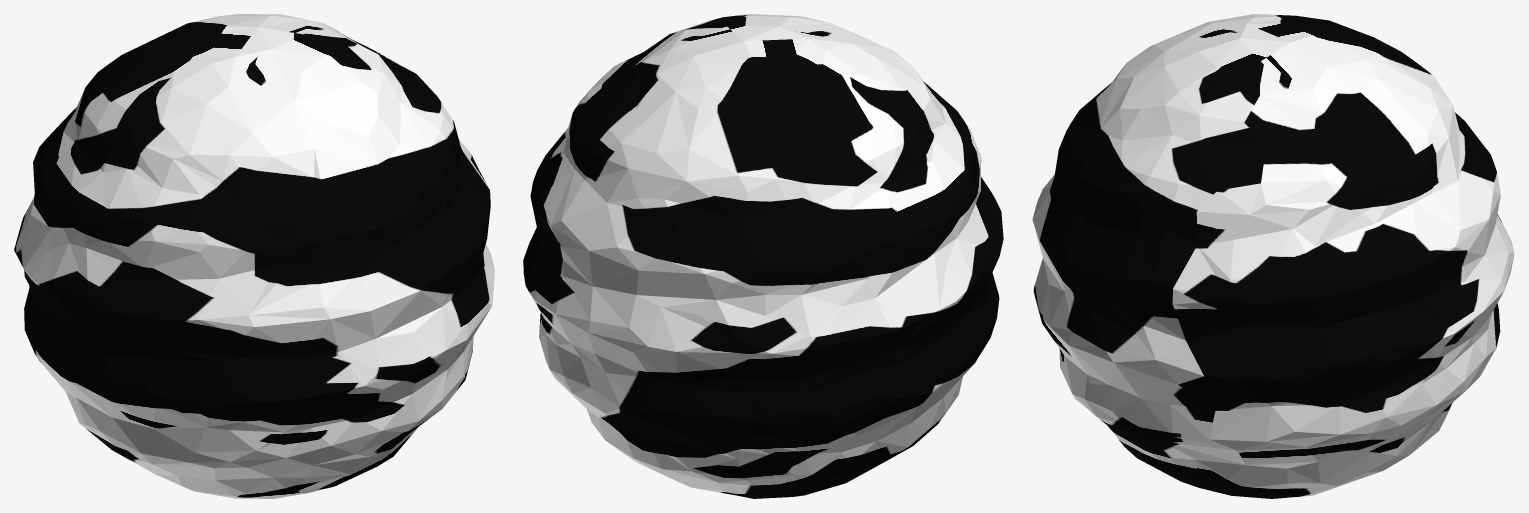
The model's file is SM_Env_Planet_03.fbx.
The picture shows the model from 3 angles, left to right: view 1: azimuth 30°, elevation 25°; view 2: azimuth 150°, elevation 25°; view 3: azimuth 270°, elevation 25°; orthographic projection.
Parts seen in each view (by area): view 1: SM_Env_Planet_03_LOD0; view 2: SM_Env_Planet_03_LOD0; view 3: SM_Env_Planet_03_LOD0.
Part boxes in pixels (<box>): SM_Env_Planet_03_LOD0: <box>14,14,494,498</box>; SM_Env_Planet_03_LOD0: <box>523,14,1003,498</box>; SM_Env_Planet_03_LOD0: <box>1032,14,1514,498</box>.
Size of the model in its own units: 43727 by 43693 by 43981.
Materials: 1 (1 with a texture image).
